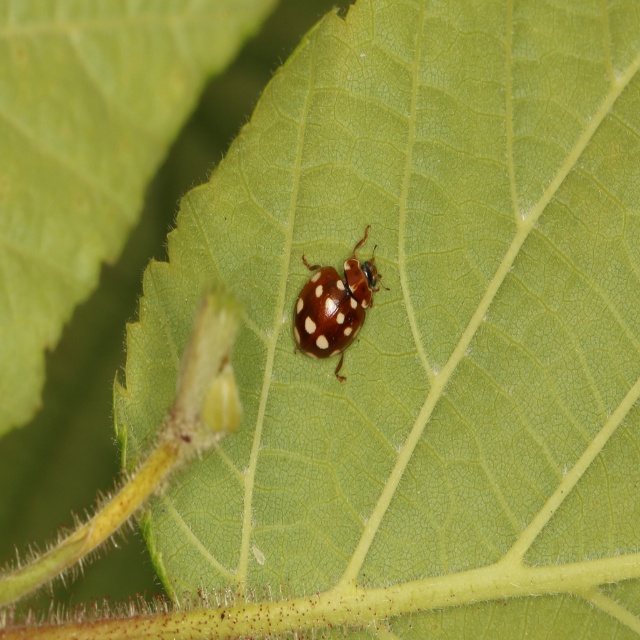Ladybug: (292, 225, 391, 379)
